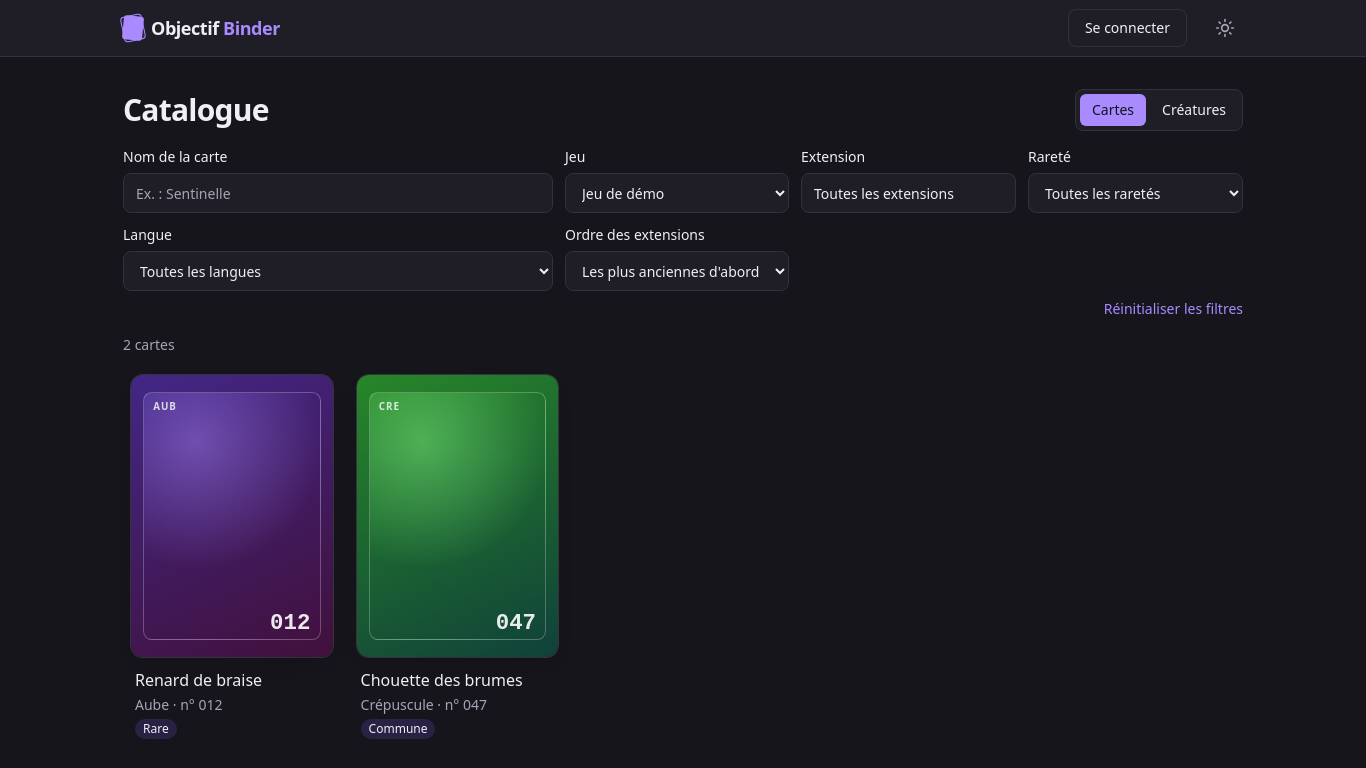
Test: CardSearchPage › filters › shows when each set came out, next to its name
Click the dropdown labelled "Extension".
click(908, 193)  # box x1=801 y1=173 x2=1016 y2=213
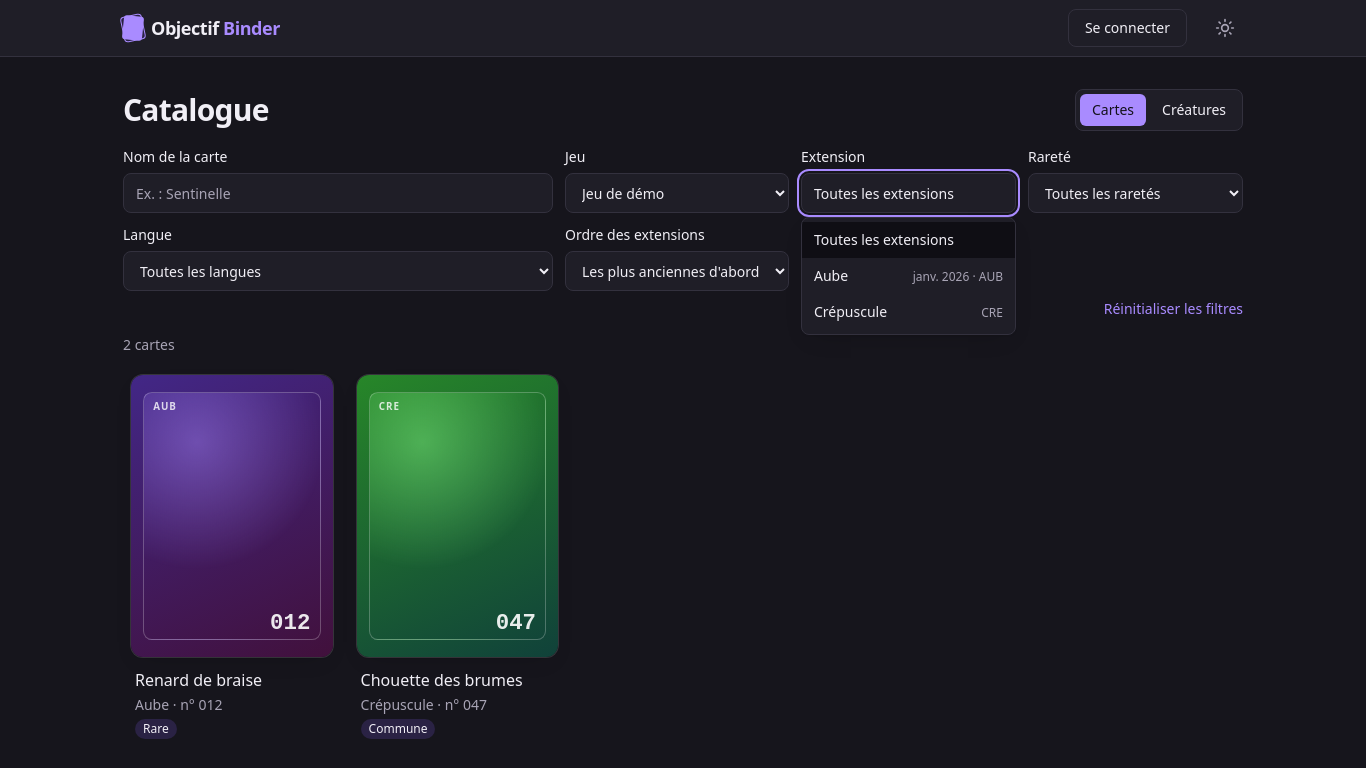
Now the option "Aube janv. 2026 · AUB" is shown, box x1=814 y1=266 x2=1003 y2=285
Now the option "Crépuscule CRE" is shown, box x1=814 y1=302 x2=1003 y2=321
